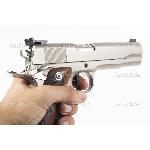Pistol: (8, 37, 144, 125)
